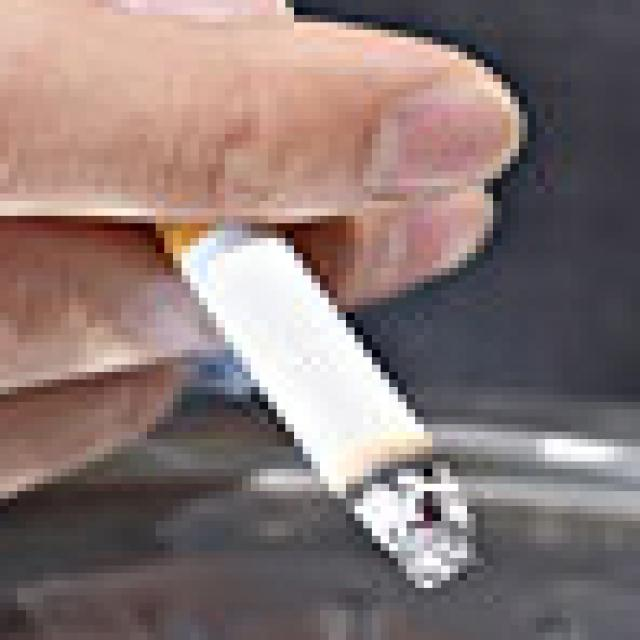smoking: (154, 192, 482, 590)
